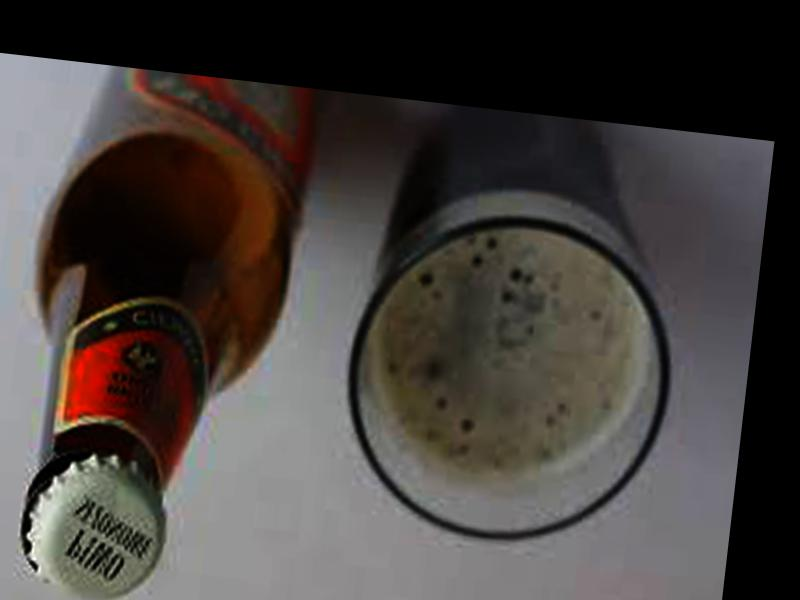Beer: (0, 59, 324, 600)
